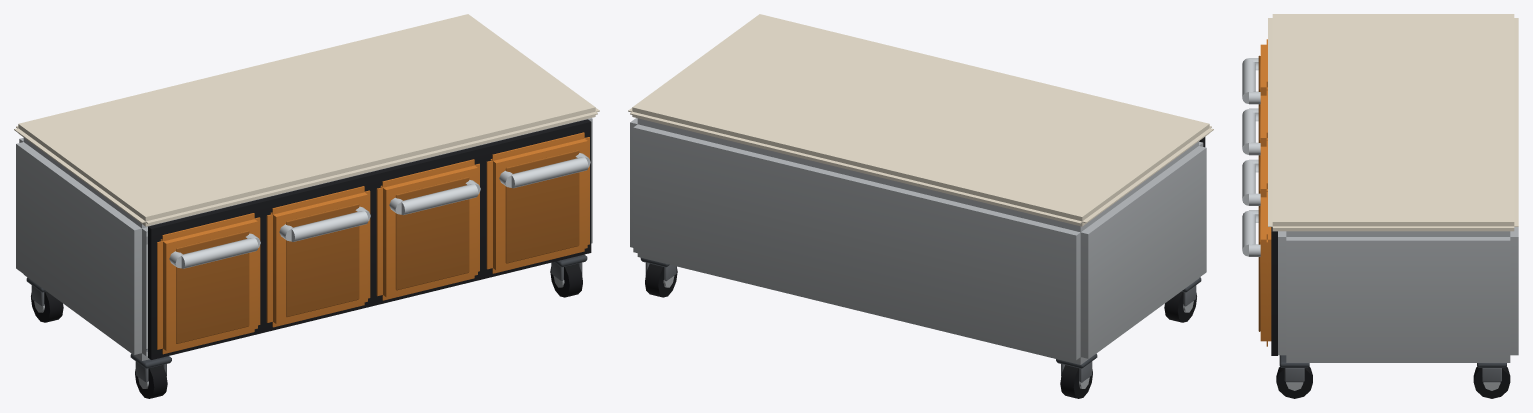
Rendered from SM_ChefBase_Drawers_15.glb.
3 views of the same model, side by side, from view 1: azimuth 30°, elevation 25°; view 2: azimuth 150°, elevation 25°; view 3: azimuth 270°, elevation 25° (orthographic). The views are drawn at different scales.
Parts seen in each view (by area): view 1: SM_ChefBase_Drawers_15; view 2: SM_ChefBase_Drawers_15; view 3: SM_ChefBase_Drawers_15.
Part boxes in pixels (left/top/right/bottom): SM_ChefBase_Drawers_15: left=14, top=14, right=599, bottom=398; SM_ChefBase_Drawers_15: left=628, top=14, right=1213, bottom=398; SM_ChefBase_Drawers_15: left=1242, top=14, right=1518, bottom=398.
Bounding box in the file's own units: 1.5 × 0.6 × 0.827.
Materials: 1 (1 with a texture image).
